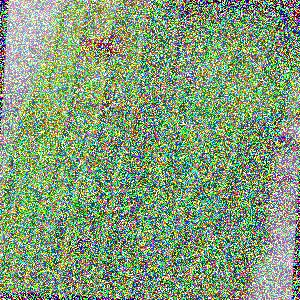Bacterial_Leaf_Blight: (73, 19, 132, 69), (87, 89, 134, 122), (61, 224, 102, 258), (223, 94, 252, 112), (82, 146, 105, 162), (249, 25, 264, 39), (241, 28, 253, 38)
